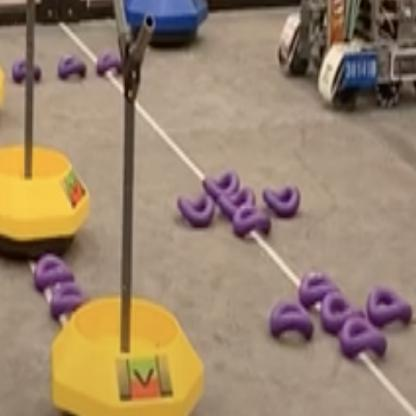ring: (340, 314, 386, 358), (319, 288, 365, 331), (268, 297, 312, 339), (367, 285, 412, 326), (297, 269, 342, 305), (34, 252, 73, 285), (176, 194, 214, 227), (261, 184, 300, 216), (232, 204, 270, 236), (50, 280, 84, 314), (220, 187, 256, 215), (202, 172, 239, 198), (12, 56, 40, 82), (57, 52, 84, 78), (96, 51, 121, 73)
